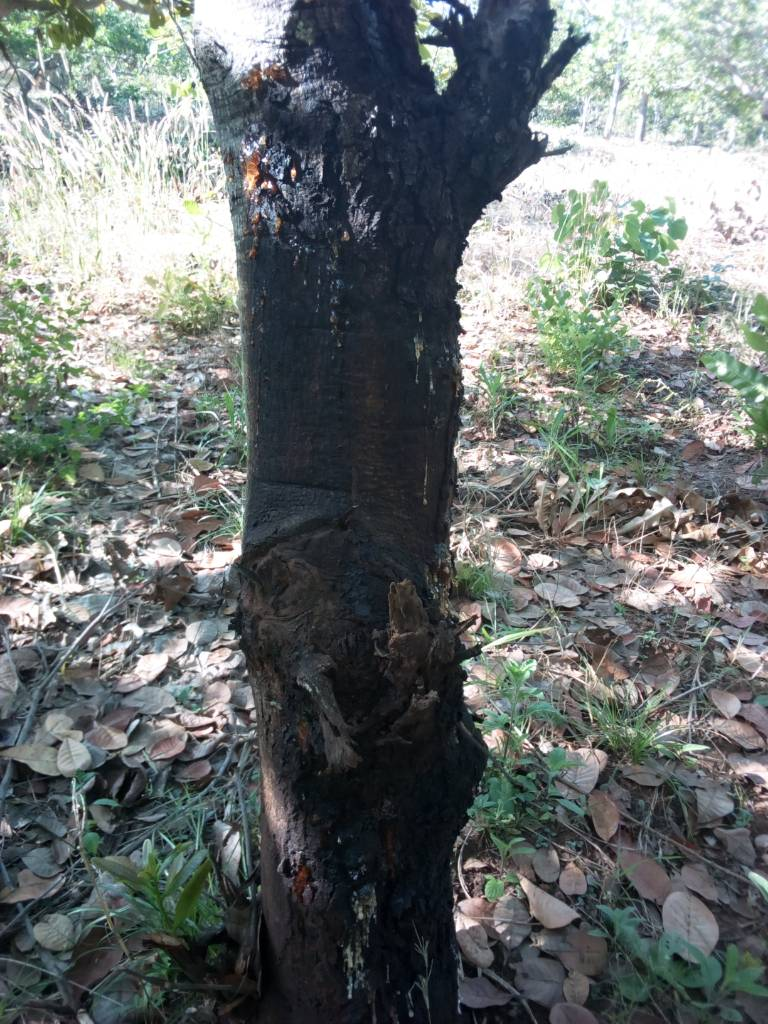Mecocorynus longiceps: (211, 41, 322, 297)
